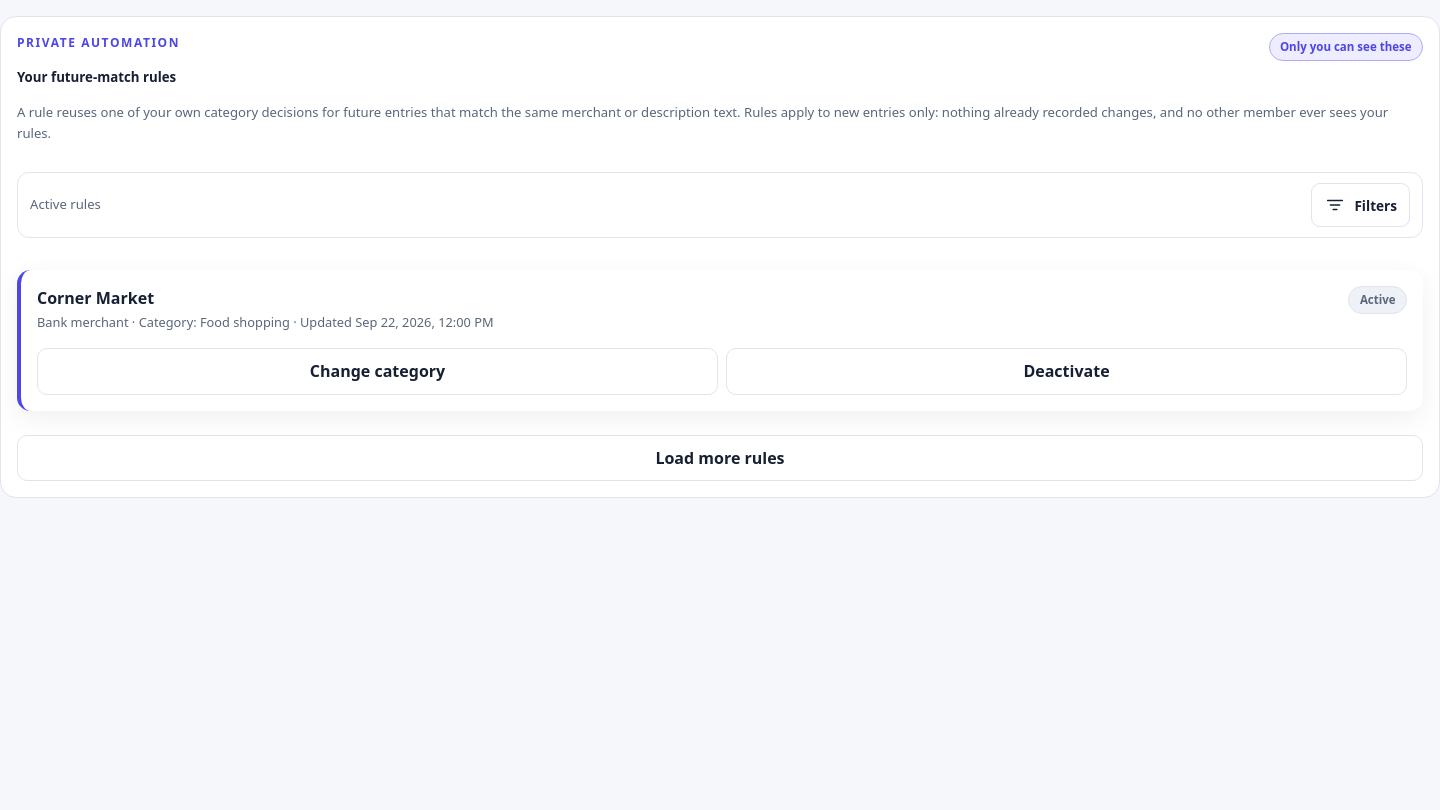
Test: private future-match rule management › pages with the loaded count and never lists the same rule twice
The width and height of the screenshot is (1440, 810).
Check: the text "Corner Market" is shown, box x1=37 y1=287 x2=154 y2=309
Click the button "Load more rules" at (720, 458), box x1=17 y1=435 x2=1423 y2=481
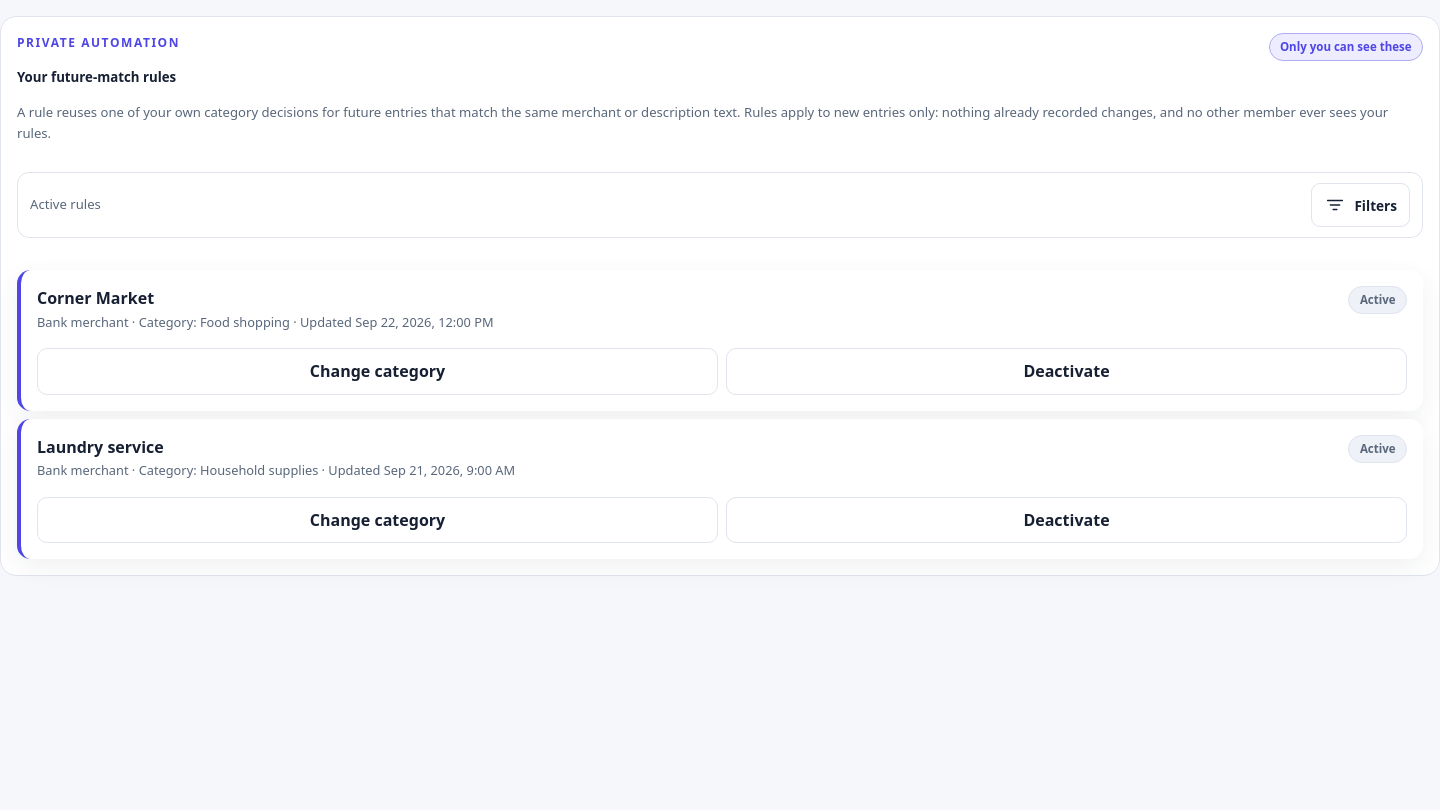
Check: the text "Corner Market" is shown once, box x1=37 y1=287 x2=154 y2=309
Check: the text "Laundry service" is shown, box x1=37 y1=436 x2=164 y2=458
Check: the button "Load more rules" is gone
